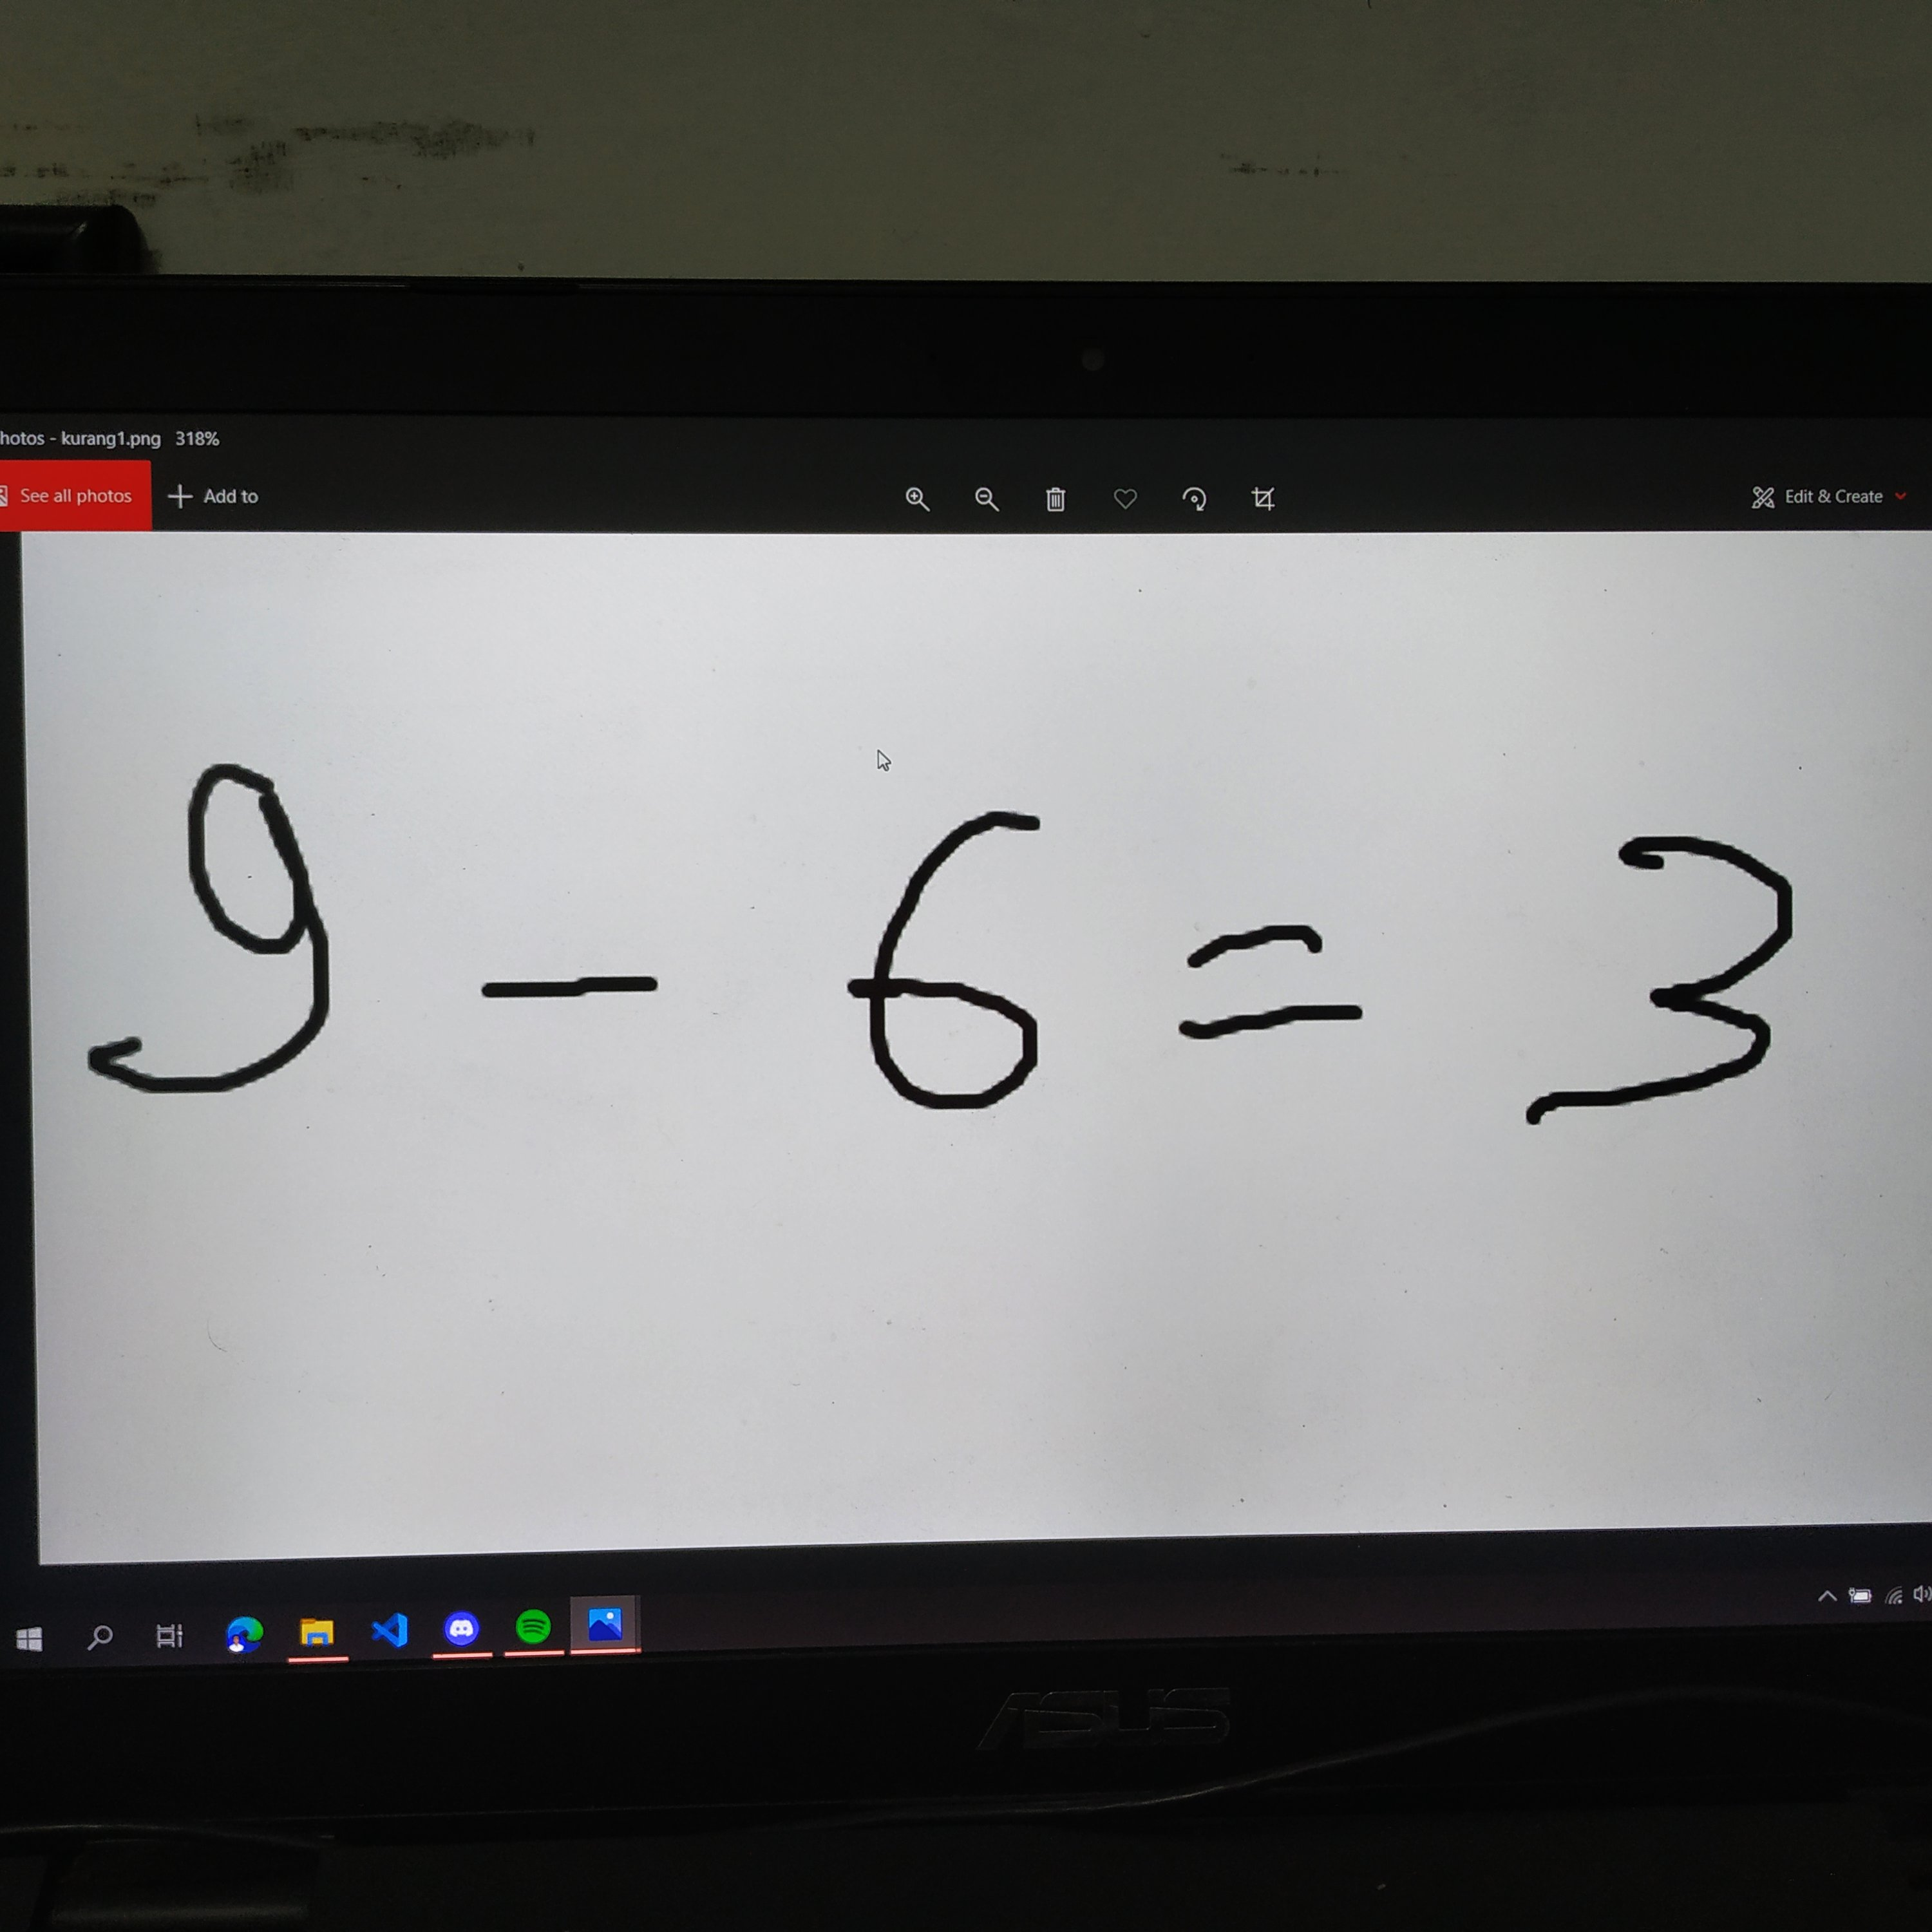equal: (1157, 910, 1384, 1072)
min: (449, 943, 734, 1053)
num3: (1488, 810, 1851, 1151)
num6: (802, 791, 1108, 1136)
num9: (55, 735, 379, 1113)
